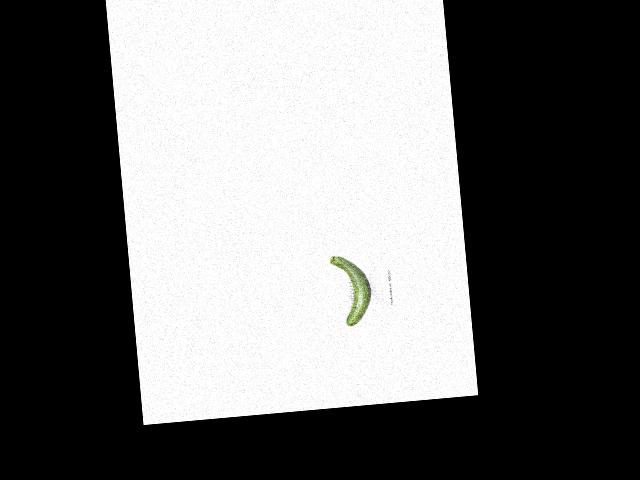cucumber: (329, 253, 373, 327)
